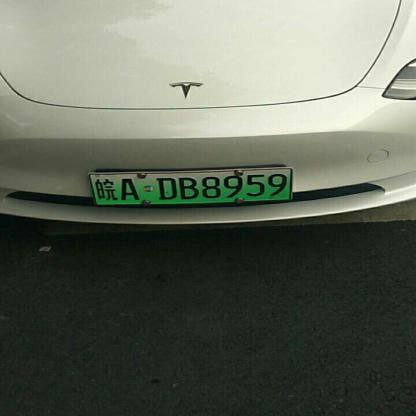lp: (88, 167, 292, 206)
